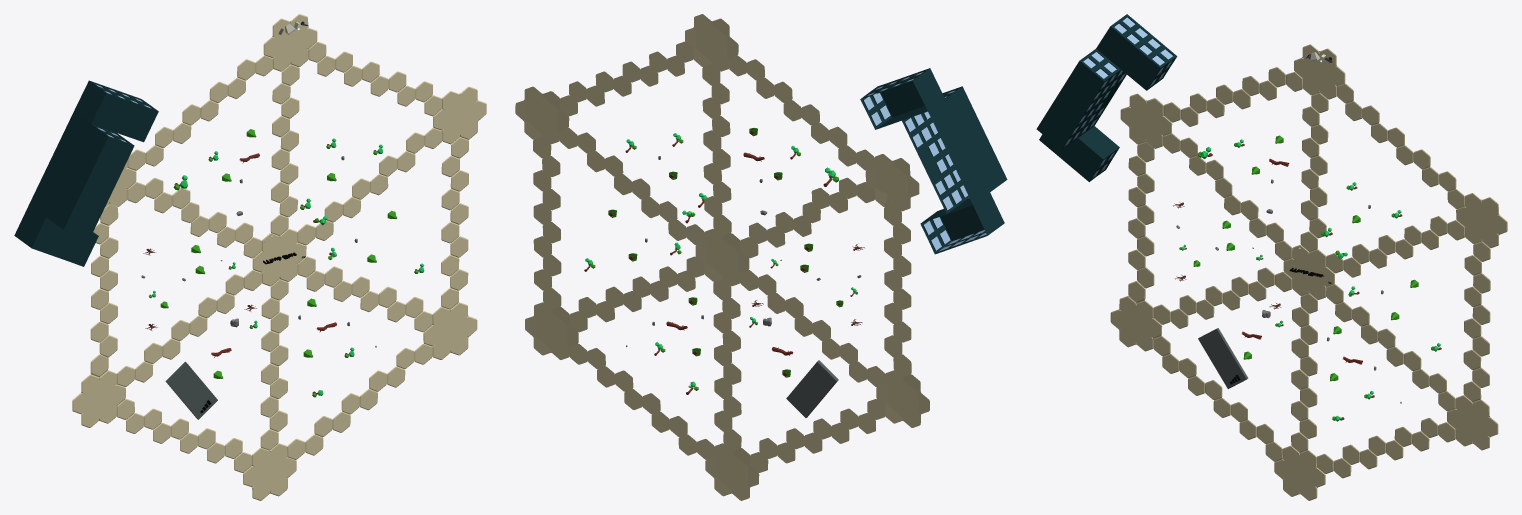
File: MainMap.glb
3 renders of one model, left to right at view 1: azimuth 30°, elevation 25°; view 2: azimuth 150°, elevation 25°; view 3: azimuth 330°, elevation 25°, orthographic. The views are drawn at different scales.
Visible parts, largest first — view 1: пол.003, stone2, подставкаКлавиатуры; view 2: пол.003, stone2, stone2.001, подставкаКлавиатуры; view 3: пол.003, stone2, подставкаКлавиатуры, stone2.001.
Part boxes in pixels (x1,y1,x2,y2): пол.003: [72, 14, 486, 500]; stone2: [14, 80, 158, 266]; подставкаКлавиатуры: [165, 361, 217, 419]; пол.003: [515, 14, 929, 500]; stone2: [860, 68, 1007, 254]; stone2.001: [864, 72, 986, 251]; подставкаКлавиатуры: [786, 360, 838, 417]; пол.003: [1110, 44, 1507, 500]; stone2: [1036, 14, 1177, 181]; подставкаКлавиатуры: [1198, 328, 1248, 388]; stone2.001: [1065, 17, 1172, 176].
Size of what is drawn, in the model's own units: 119 by 115 by 15.27.
